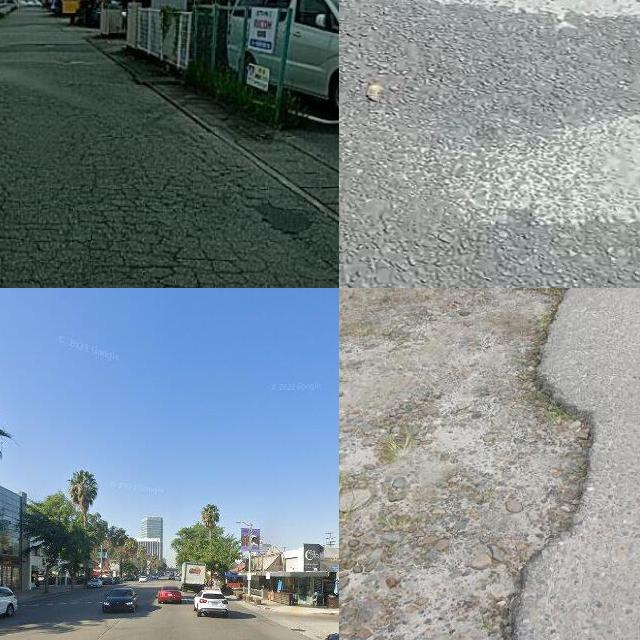Pinggir: (477, 288, 607, 640)
Retak Buaya: (0, 117, 339, 288)
